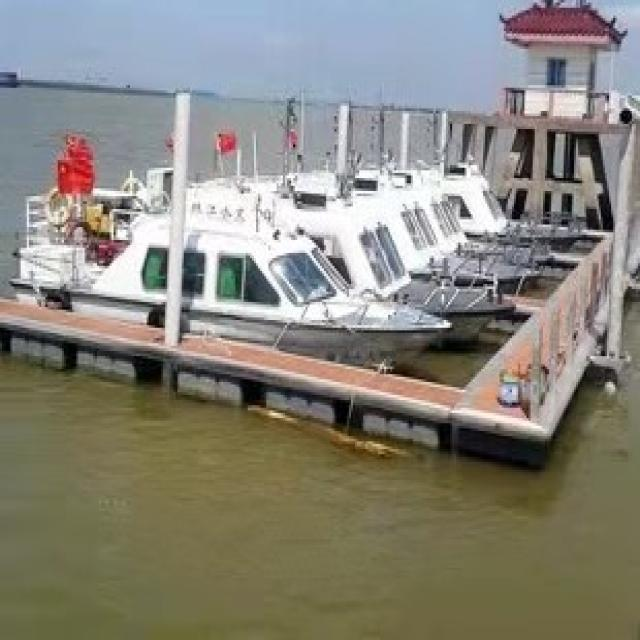houseboat: (39, 146, 426, 368)
